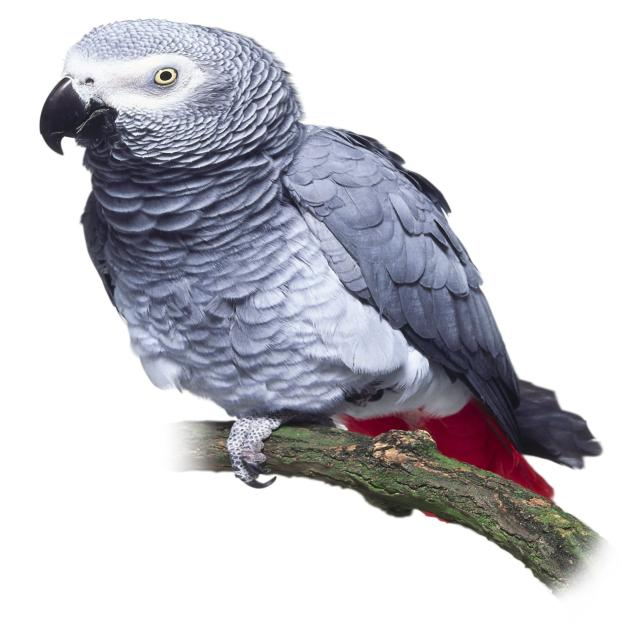Parrot: (37, 18, 586, 507)
